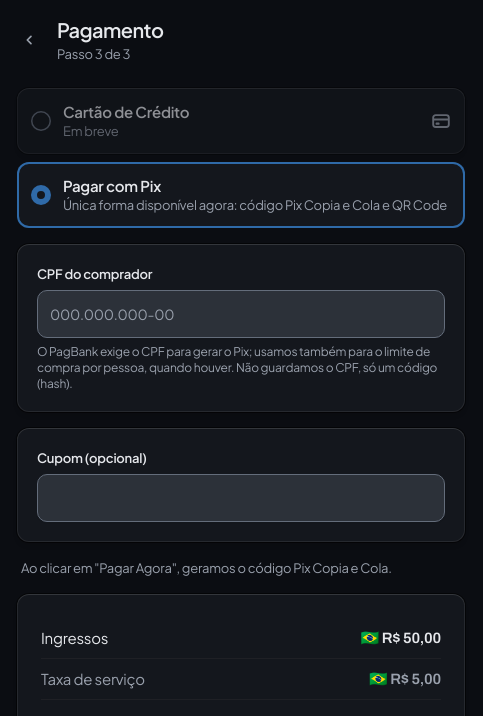
it: Pagamento: cupom e recusas do servidor › cupom_invalido: erro inline no campo, sem toast, e libera o botão
This screenshot has width=483, height=716.
In the field labelled "CPF do comprador": (241, 314) 37,290 -> 445,338, type "52998224725"
(page scrolled)
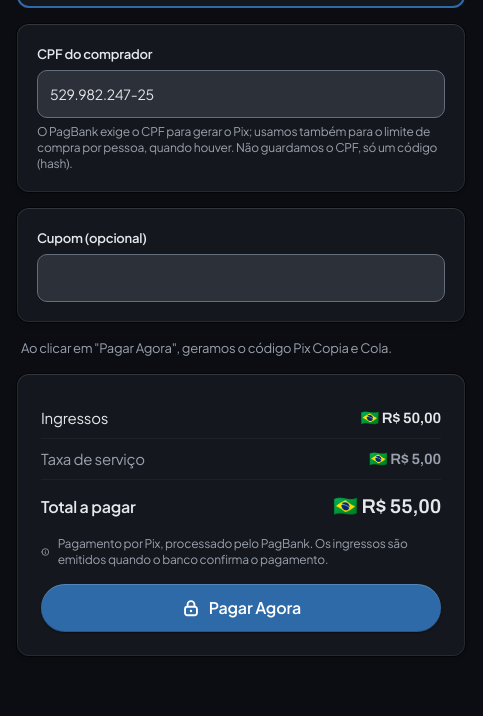
Click the button "Pagar Agora": (241, 608) 41,584 -> 441,632
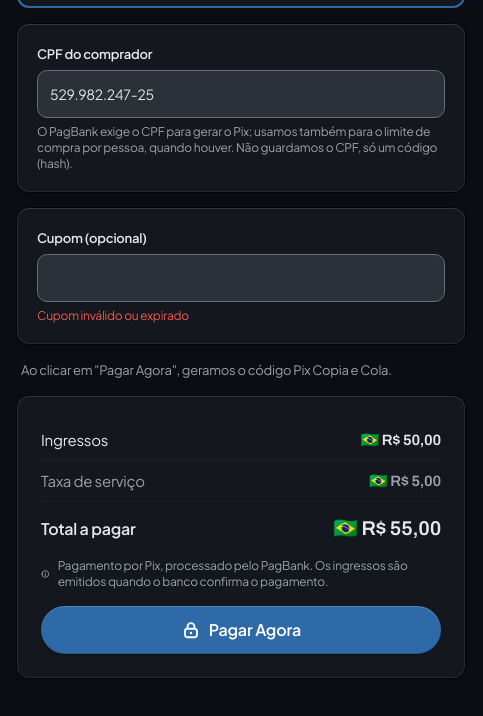
Check: the message reads "Cupom inválido ou expirado", box 37,308 -> 189,323
